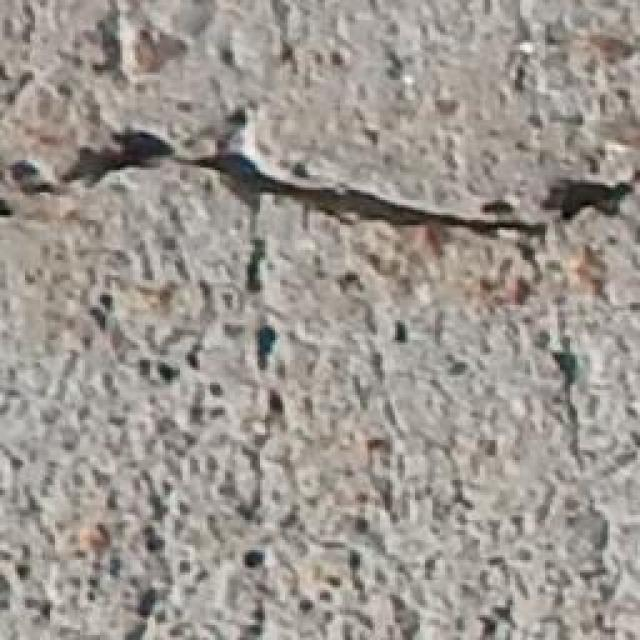concrete-crack: (0, 116, 640, 280)
